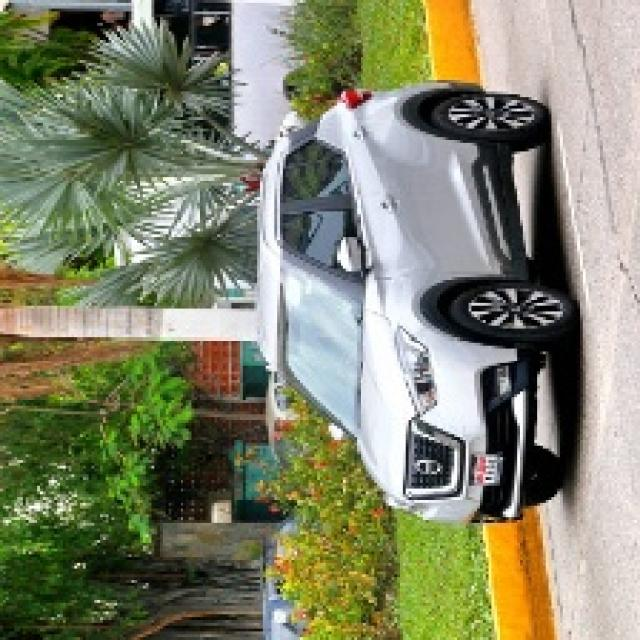car: (245, 95, 569, 531)
